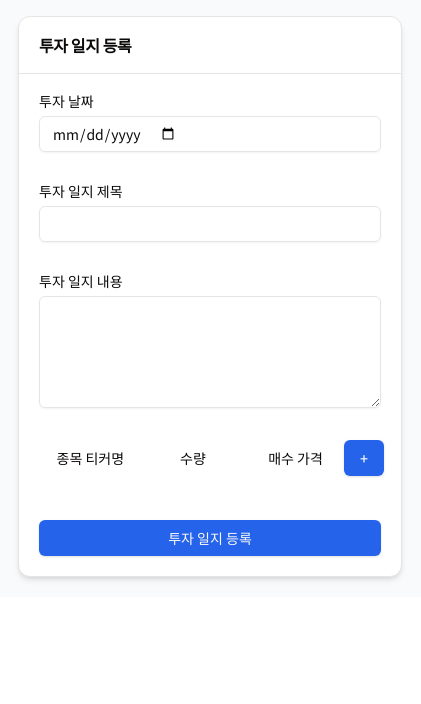
Test: DiaryAdd Test › 종목 삭제 버튼 클릭 시 화면 렌더링
Click the button named "insert_asset_button": (364, 458) [344,440,384,476]
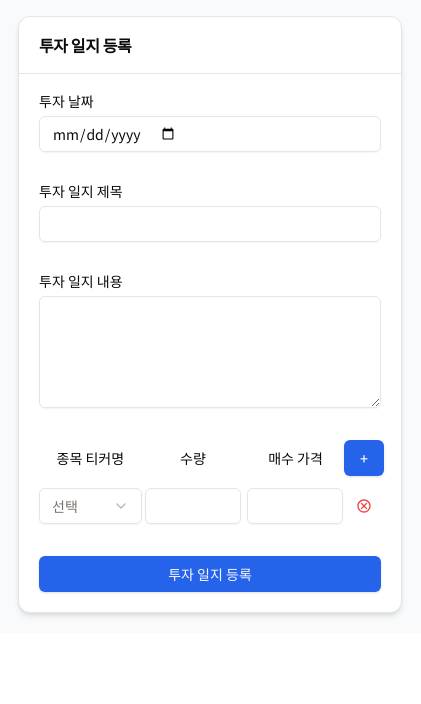
Click the button named "insert_asset_button": (364, 458) [344,440,384,476]
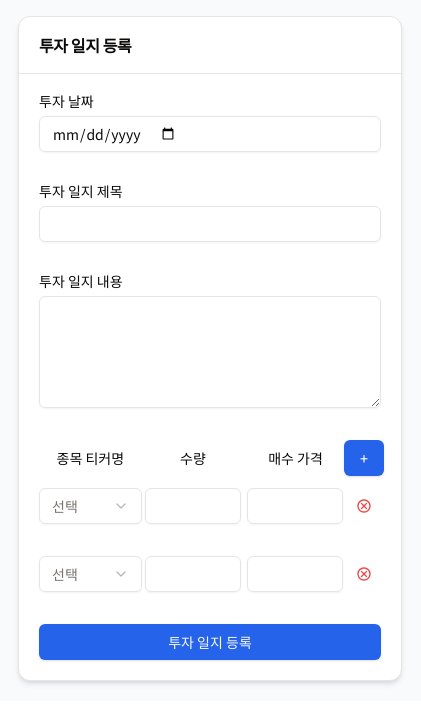
Click the 1st button named "delete_asset_button": (364, 506) [340,488,388,524]
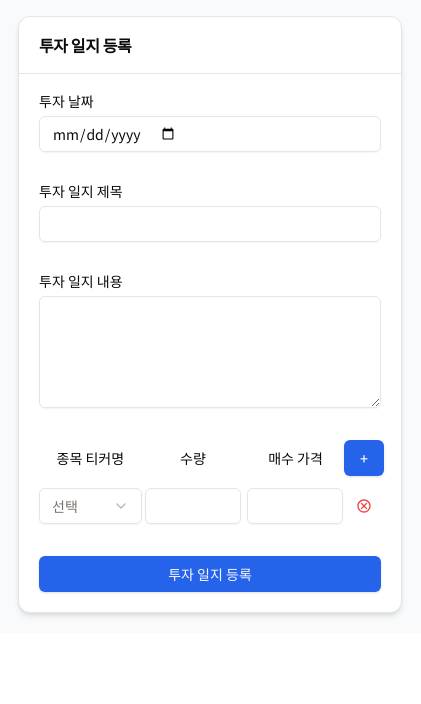
Result: the number of dropdowns is 1 at [39,488,142,524]
Result: the number of number fields named "amount" is 1 at [145,488,241,524]
Result: the number of number fields named "buy_price" is 1 at [248,488,344,524]
